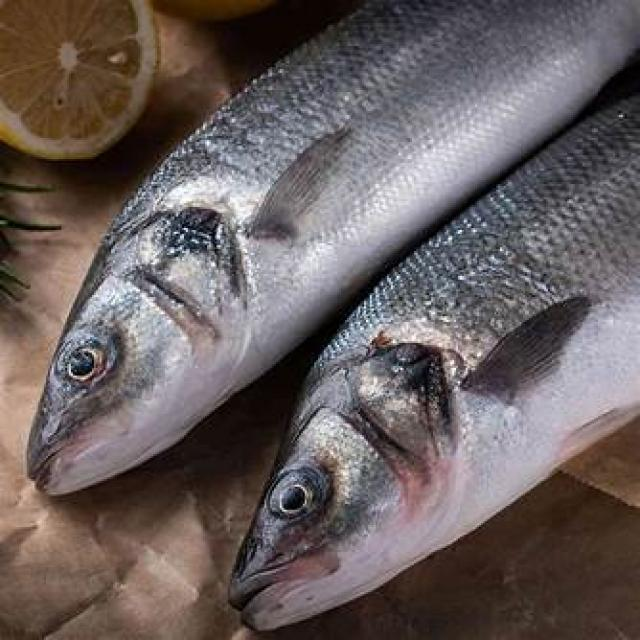Healthy Fish: (23, 0, 640, 628)
